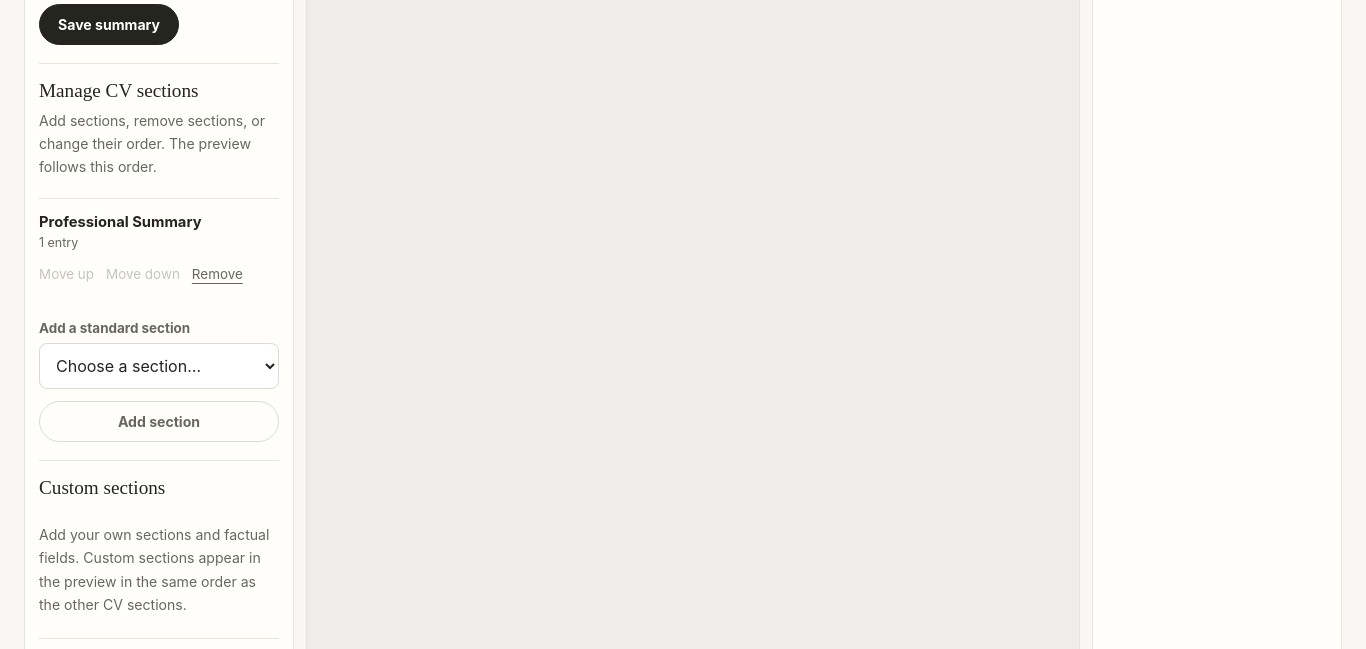
Test: CVDocumentPage › clears selection when the selected section is removed
The image size is (1366, 649).
Earlier steps of the test are not shown.
(page scrolled)
Step 1. Click the button with aria-label "Remove Professional Summary section" → (217,274), box [192,266,243,282]
(page scrolled)
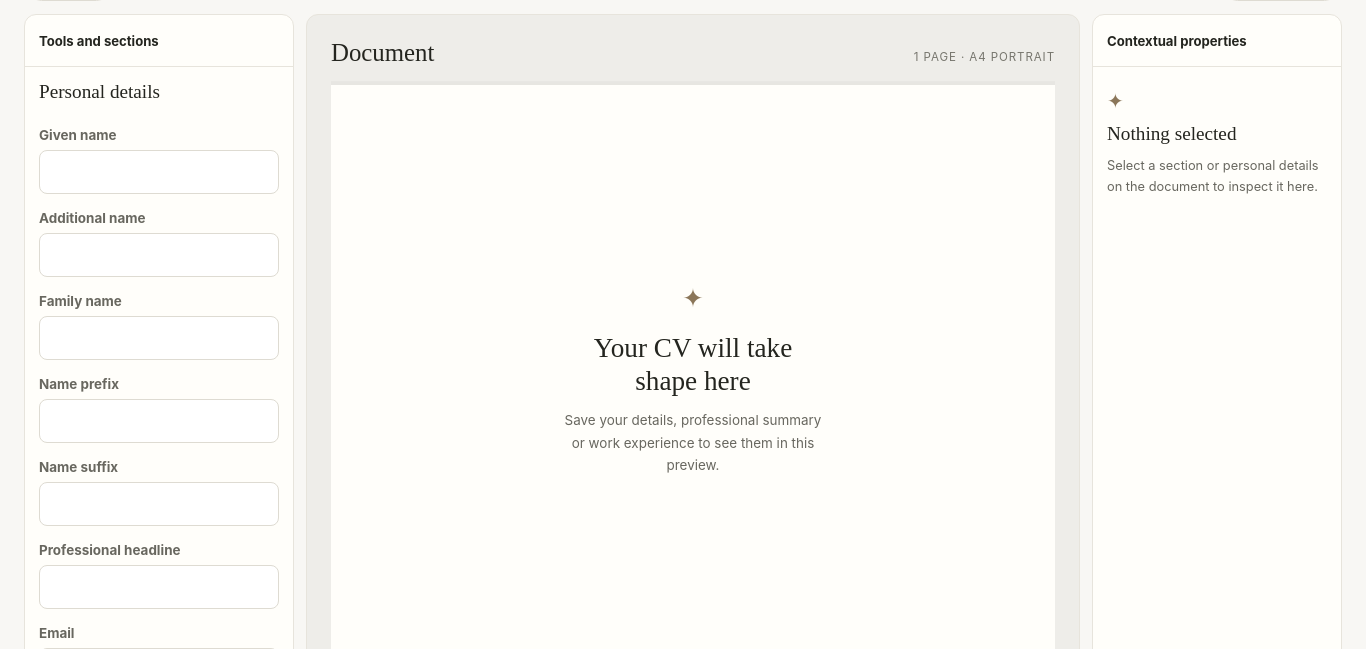
Expected: the heading "Nothing selected" is shown, [1107,123,1236,144]
